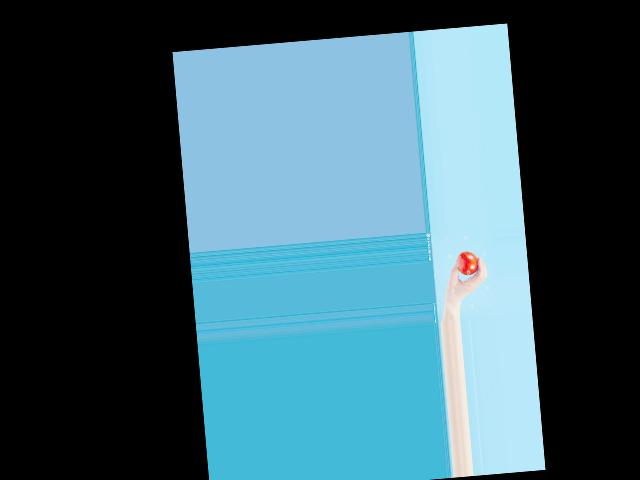tomato: (456, 250, 479, 276)
